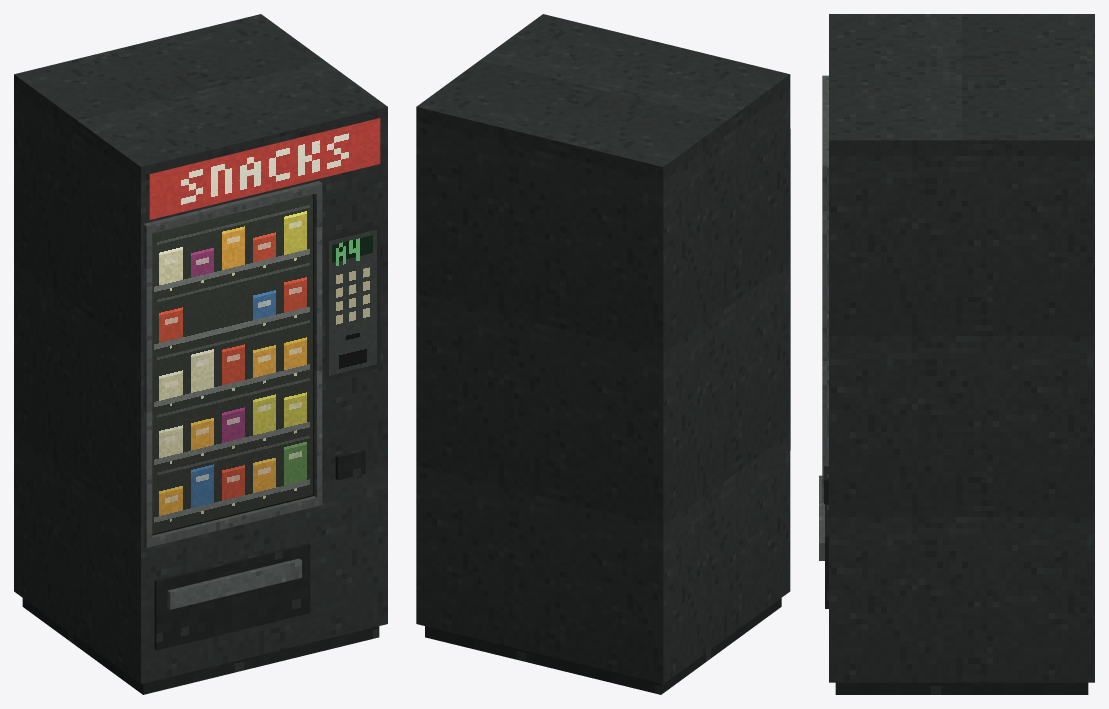
The model's file is vending_machine.glb.
3 renders of one model, left to right at view 1: azimuth 30°, elevation 25°; view 2: azimuth 150°, elevation 25°; view 3: azimuth 270°, elevation 25°, orthographic. The views are drawn at different scales.
Parts seen in each view (by area): view 1: VendingMachine; view 2: VendingMachine; view 3: VendingMachine.
Part boxes in pixels (left/top/right/bottom): VendingMachine: left=14, top=14, right=387, bottom=694; VendingMachine: left=416, top=14, right=790, bottom=694; VendingMachine: left=819, top=14, right=1094, bottom=694.
Bounding box in the file's own units: 0.9 × 1.85 × 0.83.
Materials: 5 (5 with a texture image).
